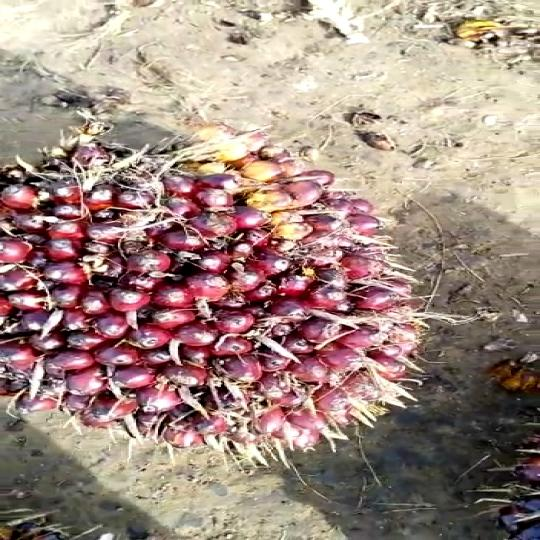kurang masak: (0, 119, 434, 481)
